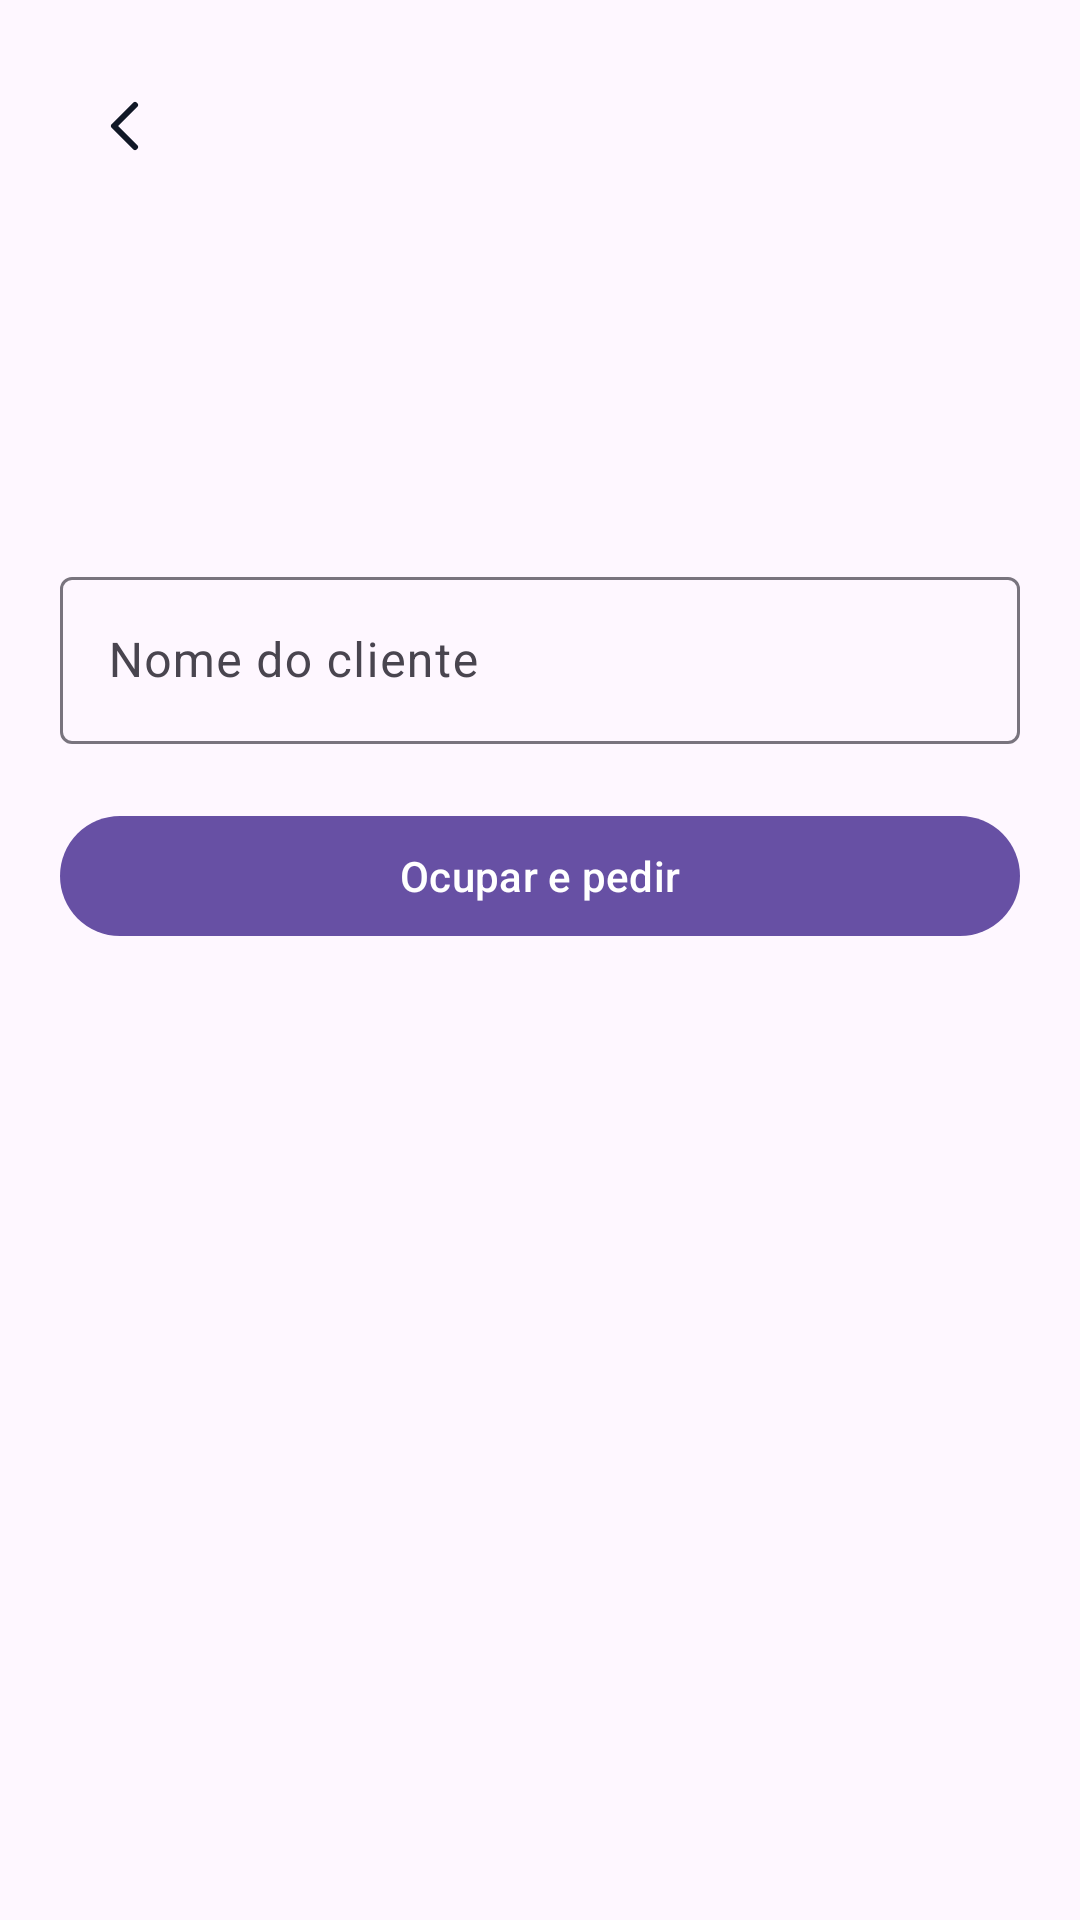

Where icons sit on this 1080w x 1920h app screen, as (left=x1, top=y1, right=x2, bottom=y2):
Voltar: (left=111, top=102, right=138, bottom=150)
